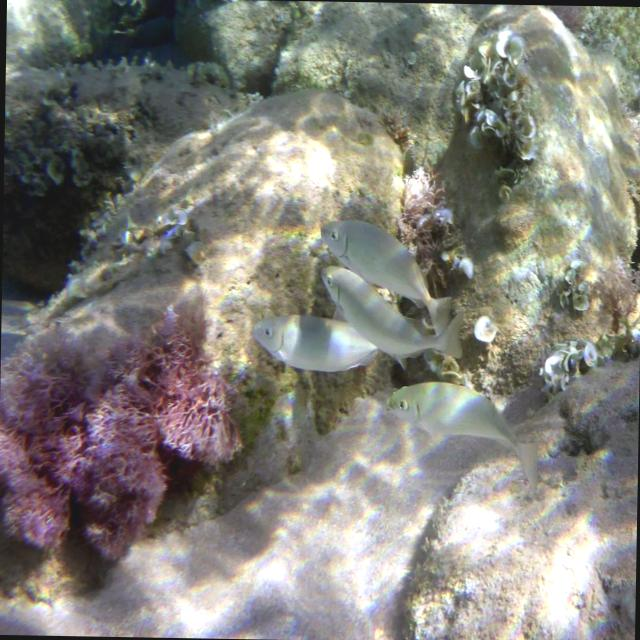Sokar Baligi: (383, 374, 548, 500)
